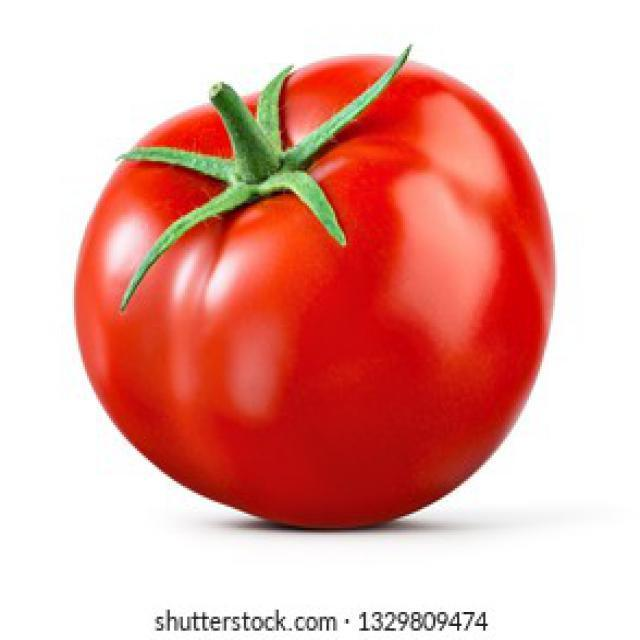Tomato: (73, 48, 557, 534)
